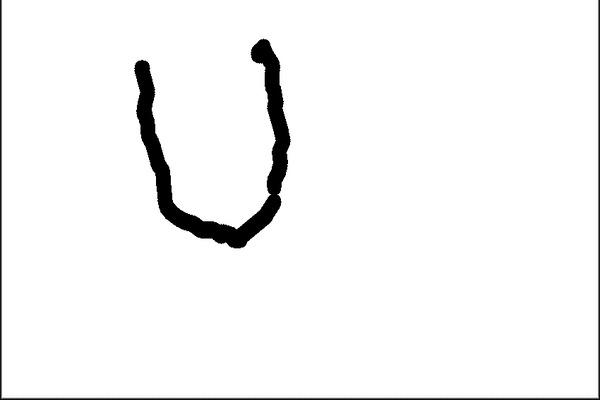U: (123, 28, 304, 252)
